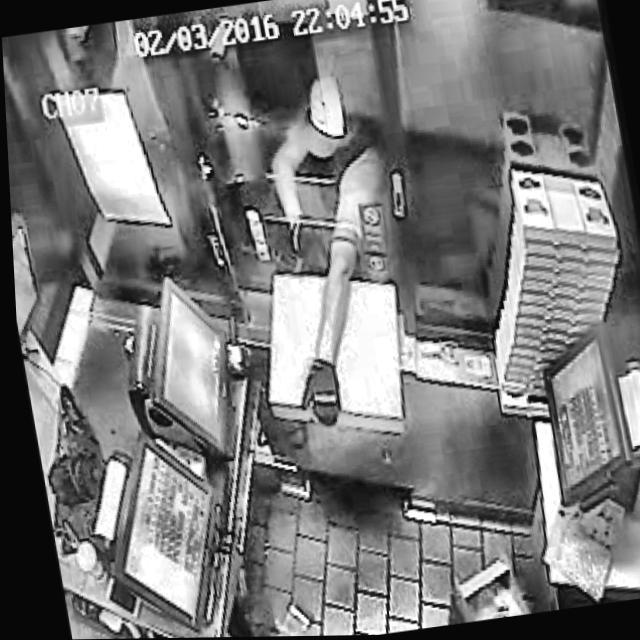Weapon: (254, 46, 436, 472)
